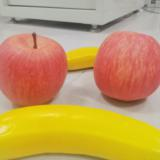apple: (1, 33, 68, 105), (94, 33, 160, 101)
